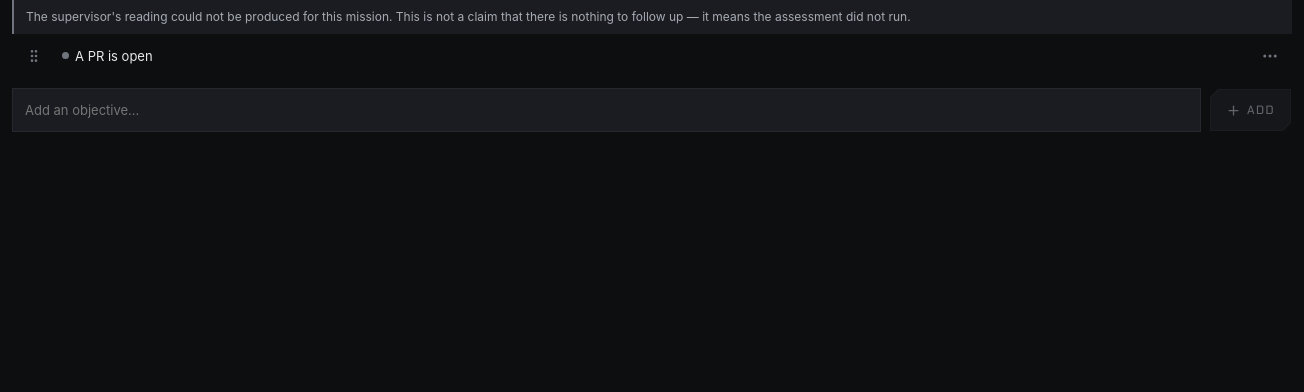
Scenario: the settle control says NOT REQUIRED, never 'met'
Click the button with test id "objective-menu". click: (1270, 56)
box: [1248,34,1292,78]
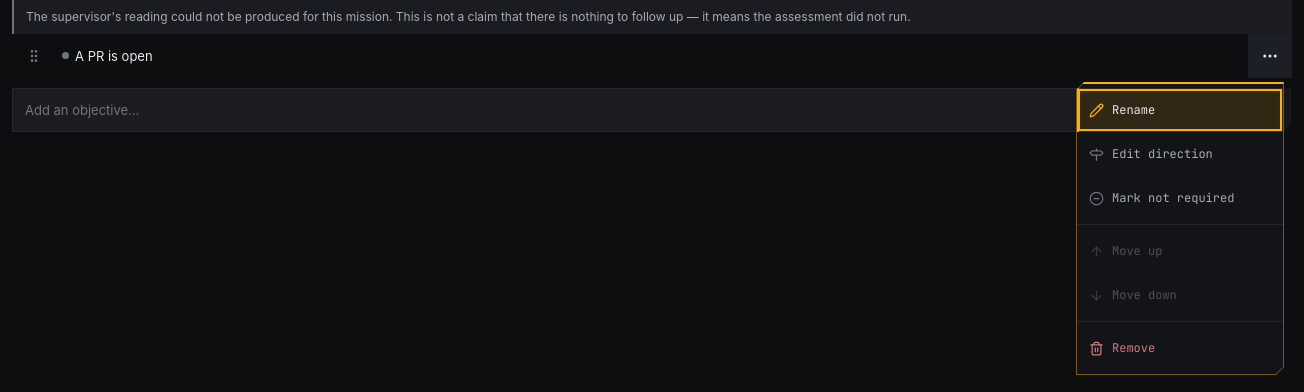
Result: the menu item with test id "objective-waive" shows "not required" at [1077,176,1283,220]
